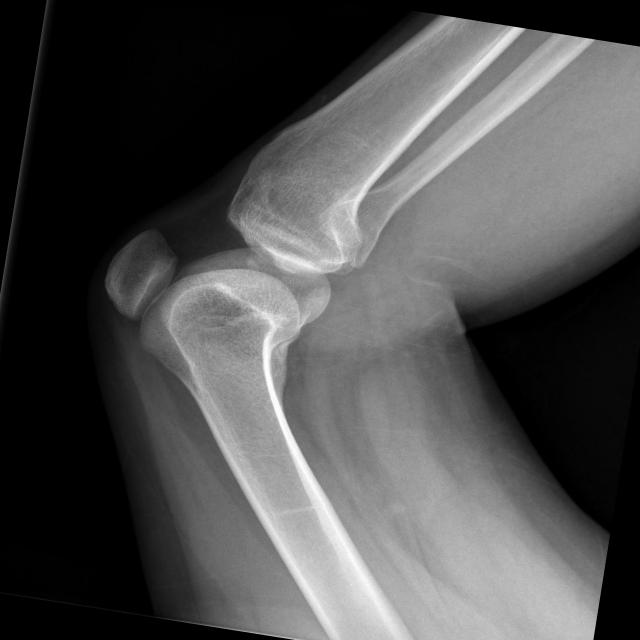Knee: (91, 154, 372, 383)
